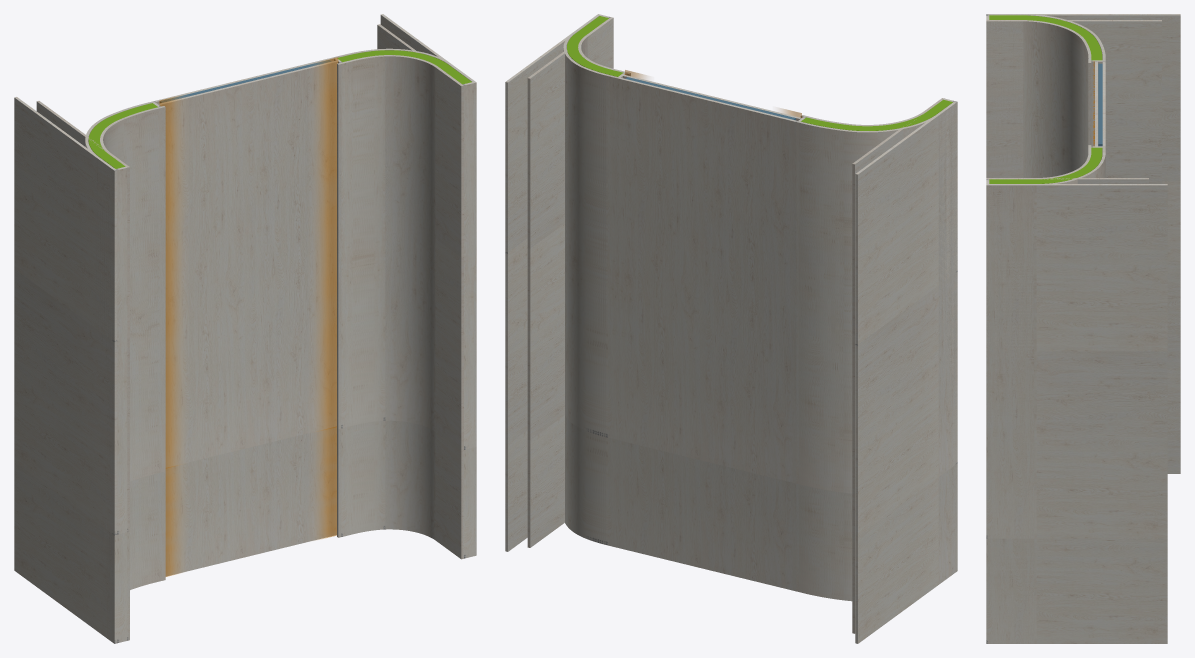
3 renders of one model, left to right at view 1: azimuth 30°, elevation 25°; view 2: azimuth 150°, elevation 25°; view 3: azimuth 270°, elevation 25°, orthographic. The views are drawn at different scales.
Visible parts, largest first — view 1: __LYR_[01-MP]__Group (×7), ABF_PART_38____LYR_[Layer0]____38. [GIỮA]-VÁCH ỐP MẶT TRƯỚC, ABF_PART_31____LYR_[Layer0]____31. [TRÁI]-VÁCH UỐN TRÁI MẶT , ABF_PART_10____LYR_[Layer0]____10. [GIỮA]-VÁCH ỐP MẶT TRƯỚC, __LYR_[01-MP]__ZSU_BR (×4), ABF_PART_40____LYR_[Layer0]____40. [PHẢI]-VÁCH UỐN PHẢI MẶT , ABF_PART_26____LYR_[Layer0]____26. [TRÁI]-VÁCH UỐN TRÁI MẶT , ABF_PART_42____LYR_[Layer0]____42. [TRÁI]-ĐỐ MẶT, ABF_PART_45____LYR_[Layer0]____45. [PHẢI]-ĐỐ MẶT, ABF_PART_29____LYR_[Layer0]____29. [PHẢI]-VÁCH UỐN PHẢI MẶT , ABF_PART_36____LYR_[Layer0]____36. [TRÁI]-VÁCH UỐN TRÁI MẶT , ABF_PART_9____LYR_[Layer0]____9. [TRÁI]-ĐỐ MẶT (+4 smaller); view 2: ABF_PART_35____LYR_[Layer0]____35. [GIỮA]-VÁCH ỐP MẶT SAU, __LYR_[01-MP]__Group (×4), ABF_PART_31____LYR_[Layer0]____31. [TRÁI]-VÁCH UỐN TRÁI MẶT , ABF_PART_1____LYR_[Layer0]____1. [GIỮA]-VÁCH ỐP MẶT SAU, ABF_PART_40____LYR_[Layer0]____40. [PHẢI]-VÁCH UỐN PHẢI MẶT , ABF_PART_26____LYR_[Layer0]____26. [TRÁI]-VÁCH UỐN TRÁI MẶT , ABF_PART_43____LYR_[Layer0]____43. [PHẢI]-VÁCH UỐN PHẢI MẶT , ABF_PART_29____LYR_[Layer0]____29. [PHẢI]-VÁCH UỐN PHẢI MẶT , ABF_PART_28____LYR_[Layer0]____28. [PHẢI]-VÁCH UỐN PHẢI MẶT , ABF_PART_36____LYR_[Layer0]____36. [TRÁI]-VÁCH UỐN TRÁI MẶT , ABF_PART_37____LYR_[Layer0]____37. [TRÁI]-KHUNG XƯƠNG TRÁI, ABF_PART_57____LYR_[Layer0]____57. [PHẢI]-KHUNG XƯƠNG PHẢI; view 3: ABF_PART_43____LYR_[Layer0]____43. [PHẢI]-VÁCH UỐN PHẢI MẶT , __LYR_[01-MP]__Group (×3), ABF_PART_28____LYR_[Layer0]____28. [PHẢI]-VÁCH UỐN PHẢI MẶT , ABF_PART_36____LYR_[Layer0]____36. [TRÁI]-VÁCH UỐN TRÁI MẶT , ABF_PART_31____LYR_[Layer0]____31. [TRÁI]-VÁCH UỐN TRÁI MẶT , ABF_PART_26____LYR_[Layer0]____26. [TRÁI]-VÁCH UỐN TRÁI MẶT , ABF_PART_37____LYR_[Layer0]____37. [TRÁI]-KHUNG XƯƠNG TRÁI, ABF_PART_57____LYR_[Layer0]____57. [PHẢI]-KHUNG XƯƠNG PHẢI, ABF_PART_40____LYR_[Layer0]____40. [PHẢI]-VÁCH UỐN PHẢI MẶT , ABF_PART_46____LYR_[Layer0]____46. [GIỮA]-ĐỐ LED HẮT, ABF_PART_121____LYR_[01-MP]____121, ABF_PART_35____LYR_[Layer0]____35. [GIỮA]-VÁCH ỐP MẶT SAU.
Part boxes in pixels (<box>): __LYR_[01-MP]__Group (×7): <box>85,48,476,643</box>; ABF_PART_38____LYR_[Layer0]____38. [GIỮA]-VÁCH ỐP MẶT TRƯỚC: <box>158,60,337,467</box>; ABF_PART_31____LYR_[Layer0]____31. [TRÁI]-VÁCH UỐN TRÁI MẶT : <box>14,97,117,535</box>; ABF_PART_10____LYR_[Layer0]____10. [GIỮA]-VÁCH ỐP MẶT TRƯỚC: <box>165,426,336,576</box>; __LYR_[01-MP]__ZSU_BR (×4): <box>159,57,338,576</box>; ABF_PART_40____LYR_[Layer0]____40. [PHẢI]-VÁCH UỐN PHẢI MẶT : <box>377,24,463,450</box>; ABF_PART_26____LYR_[Layer0]____26. [TRÁI]-VÁCH UỐN TRÁI MẶT : <box>14,462,117,643</box>; ABF_PART_42____LYR_[Layer0]____42. [TRÁI]-ĐỐ MẶT: <box>116,166,127,534</box>; ABF_PART_45____LYR_[Layer0]____45. [PHẢI]-ĐỐ MẶT: <box>462,82,473,449</box>; ABF_PART_29____LYR_[Layer0]____29. [PHẢI]-VÁCH UỐN PHẢI MẶT : <box>435,432,463,559</box>; ABF_PART_36____LYR_[Layer0]____36. [TRÁI]-VÁCH UỐN TRÁI MẶT : <box>36,101,129,531</box>; ABF_PART_9____LYR_[Layer0]____9. [TRÁI]-ĐỐ MẶT: <box>117,532,127,643</box>; ABF_PART_35____LYR_[Layer0]____35. [GIỮA]-VÁCH ỐP MẶT SAU: <box>619,77,797,483</box>; __LYR_[01-MP]__Group (×4): <box>563,14,957,601</box>; ABF_PART_31____LYR_[Layer0]____31. [TRÁI]-VÁCH UỐN TRÁI MẶT : <box>855,101,957,535</box>; ABF_PART_1____LYR_[Layer0]____1. [GIỮA]-VÁCH ỐP MẶT SAU: <box>619,440,796,591</box>; ABF_PART_40____LYR_[Layer0]____40. [PHẢI]-VÁCH UỐN PHẢI MẶT : <box>527,17,613,440</box>; ABF_PART_26____LYR_[Layer0]____26. [TRÁI]-VÁCH UỐN TRÁI MẶT : <box>855,465,957,643</box>; ABF_PART_43____LYR_[Layer0]____43. [PHẢI]-VÁCH UỐN PHẢI MẶT : <box>505,15,599,444</box>; ABF_PART_29____LYR_[Layer0]____29. [PHẢI]-VÁCH UỐN PHẢI MẶT : <box>527,415,564,547</box>; ABF_PART_28____LYR_[Layer0]____28. [PHẢI]-VÁCH UỐN PHẢI MẶT : <box>505,430,527,551</box>; ABF_PART_36____LYR_[Layer0]____36. [TRÁI]-VÁCH UỐN TRÁI MẶT : <box>852,98,943,525</box>; ABF_PART_37____LYR_[Layer0]____37. [TRÁI]-KHUNG XƯƠNG TRÁI: <box>803,101,951,130</box>; ABF_PART_57____LYR_[Layer0]____57. [PHẢI]-KHUNG XƯƠNG PHẢI: <box>567,17,620,76</box>; ABF_PART_43____LYR_[Layer0]____43. [PHẢI]-VÁCH UỐN PHẢI MẶT : <box>986,184,1167,538</box>; __LYR_[01-MP]__Group (×3): <box>986,20,1105,643</box>; ABF_PART_28____LYR_[Layer0]____28. [PHẢI]-VÁCH UỐN PHẢI MẶT : <box>986,538,1167,643</box>; ABF_PART_36____LYR_[Layer0]____36. [TRÁI]-VÁCH UỐN TRÁI MẶT : <box>986,20,1161,183</box>; ABF_PART_31____LYR_[Layer0]____31. [TRÁI]-VÁCH UỐN TRÁI MẶT : <box>986,14,1180,368</box>; ABF_PART_26____LYR_[Layer0]____26. [TRÁI]-VÁCH UỐN TRÁI MẶT : <box>1167,368,1180,473</box>; ABF_PART_37____LYR_[Layer0]____37. [TRÁI]-KHUNG XƯƠNG TRÁI: <box>992,15,1102,58</box>; ABF_PART_57____LYR_[Layer0]____57. [PHẢI]-KHUNG XƯƠNG PHẢI: <box>992,148,1102,183</box>; ABF_PART_40____LYR_[Layer0]____40. [PHẢI]-VÁCH UỐN PHẢI MẶT : <box>986,178,1148,183</box>; ABF_PART_46____LYR_[Layer0]____46. [GIỮA]-ĐỐ LED HẮT: <box>1091,60,1102,146</box>; ABF_PART_121____LYR_[01-MP]____121: <box>1098,63,1102,146</box>; ABF_PART_35____LYR_[Layer0]____35. [GIỮA]-VÁCH ỐP MẶT SAU: <box>1102,61,1105,146</box>.
Bounding box in the file's own units: 2.39 × 3.02 × 1.15.
Materials: 5 (3 with a texture image).
